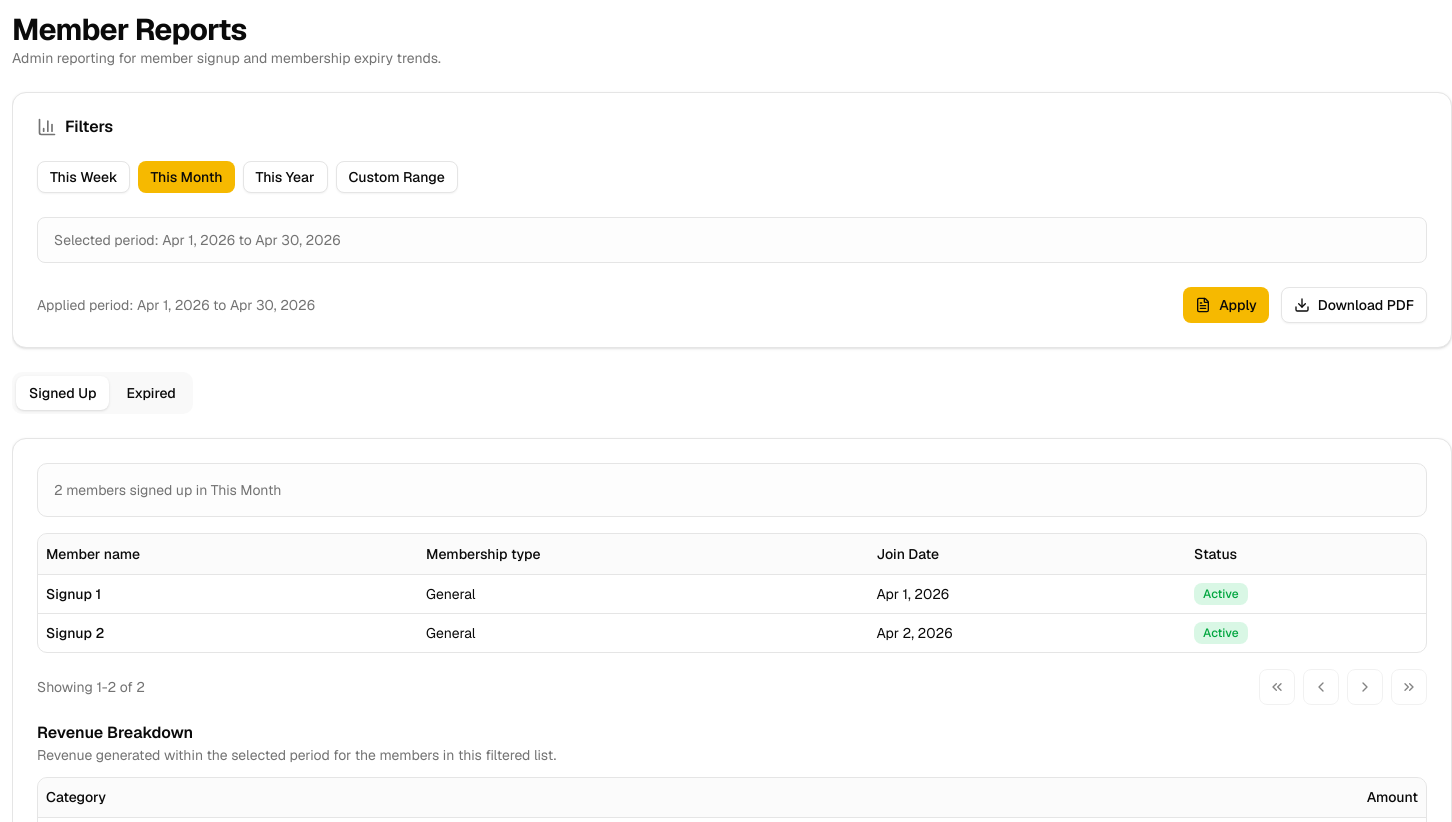
MemberReportsClient › renders the expired tab revenue breakdown after switching tabs
Step 1. Press the mouse on the tab "Expired" → x=151, y=393, box x1=113 y1=376 x2=189 y2=410
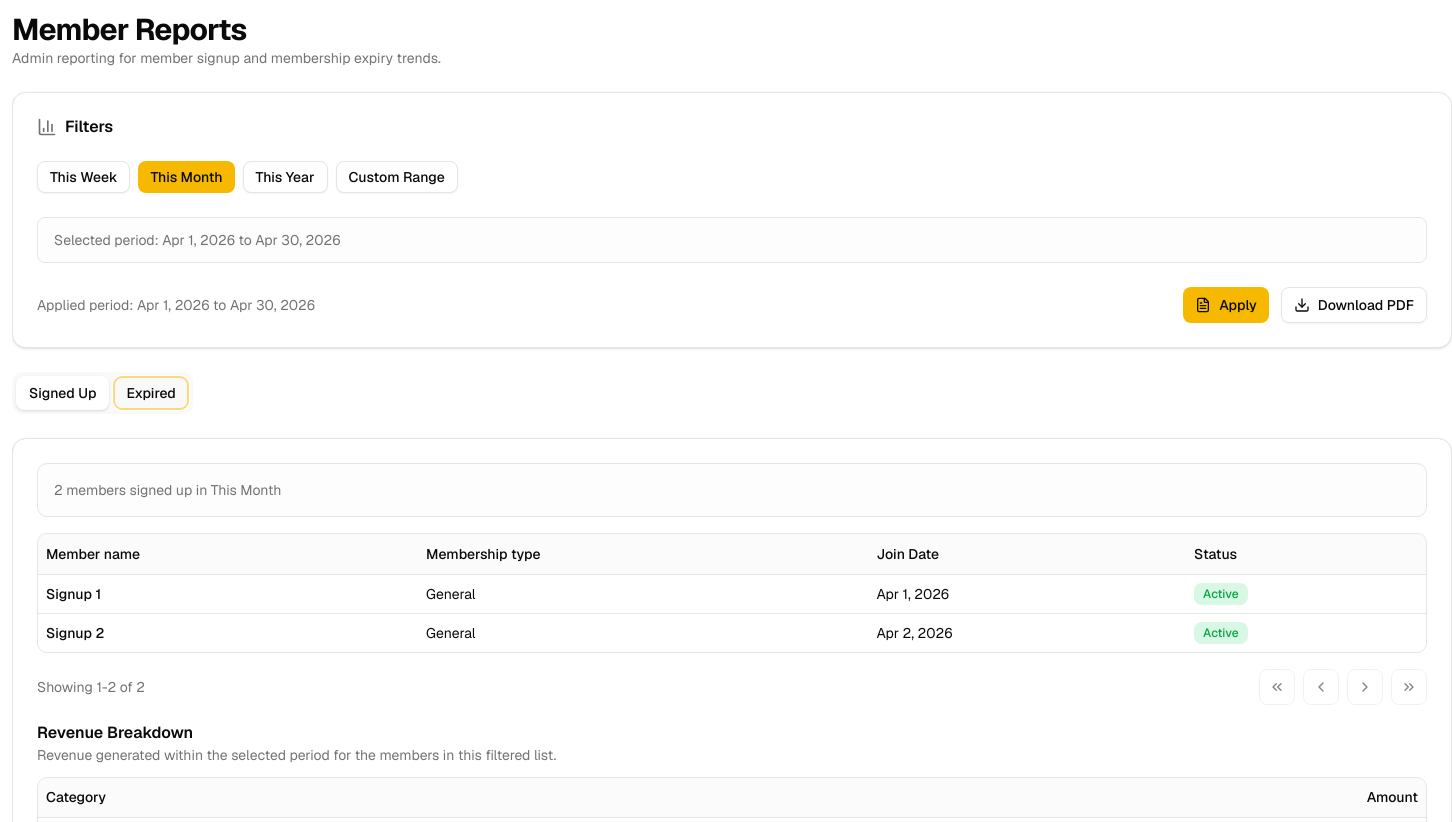
Step 2. Click the tab "Expired" → x=151, y=393, box x1=113 y1=376 x2=189 y2=410
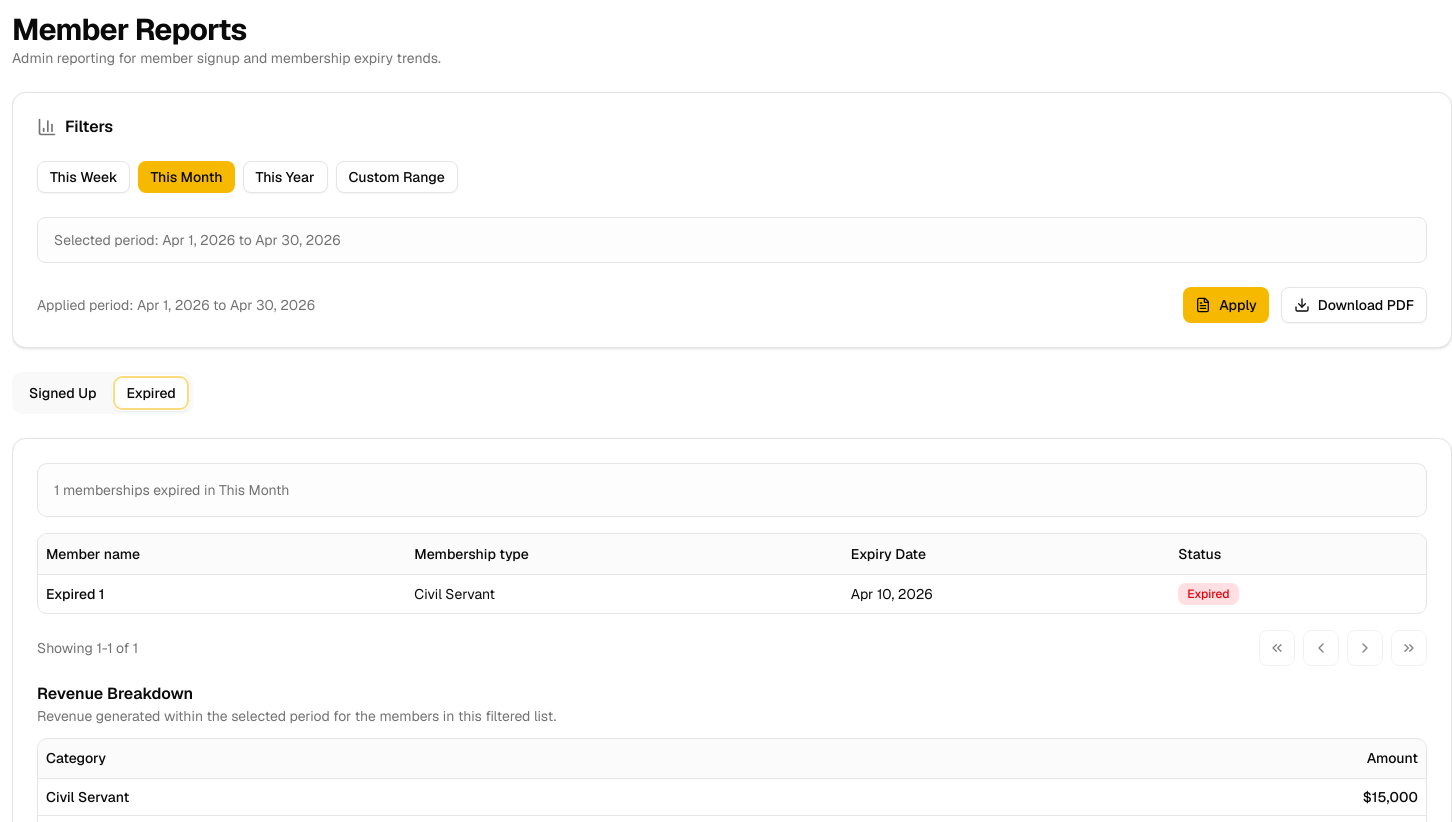
expect the text "Revenue Breakdown" is shown: met, box x1=37 y1=682 x2=193 y2=704
expect the text "1 memberships expired in This Month" is shown: met, box x1=54 y1=481 x2=290 y2=499
expect the text "Civil Servant" is shown: met, box x1=406 y1=574 x2=843 y2=612
